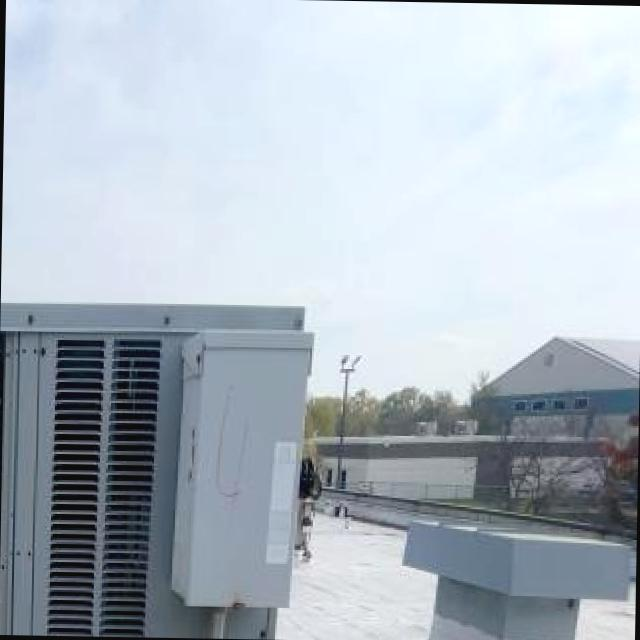RTU: (0, 286, 312, 639)
